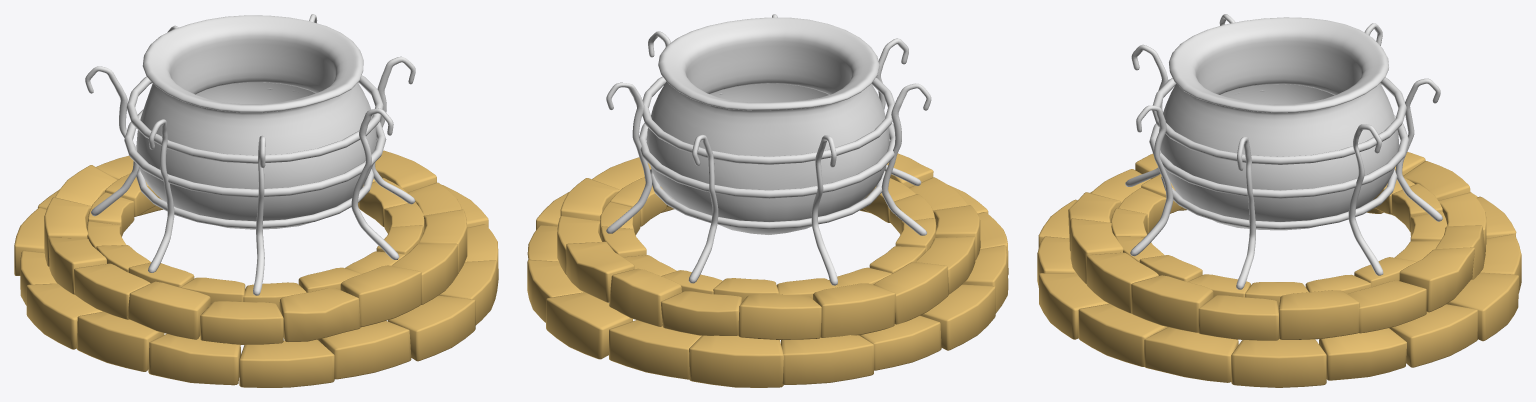
Rendered from Cauldron.fbx.
3 views of the same model, side by side, from view 1: azimuth 30°, elevation 25°; view 2: azimuth 150°, elevation 25°; view 3: azimuth 270°, elevation 25° (orthographic).
Visible parts, largest first — view 1: Cube.001, Cube, Cube.007; view 2: Cube.001, Cube, Cube.007; view 3: Cube.001, Cube, Cube.007.
Boxes of the visible parts, <box> form: Cube.001: <box>14,150,498,387</box>; Cube: <box>136,15,376,229</box>; Cube.007: <box>85,14,415,295</box>; Cube.001: <box>527,153,1008,387</box>; Cube: <box>646,17,889,234</box>; Cube.007: <box>606,14,931,285</box>; Cube.001: <box>1037,152,1521,387</box>; Cube: <box>1159,17,1399,230</box>; Cube.007: <box>1125,14,1442,289</box>.
Bounding box in the file's own units: 651 × 333 × 644.
